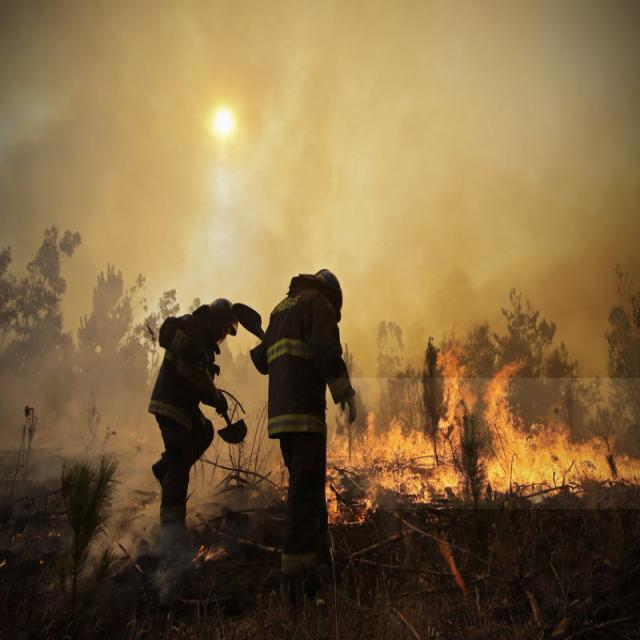Fire: (325, 378, 640, 509)
